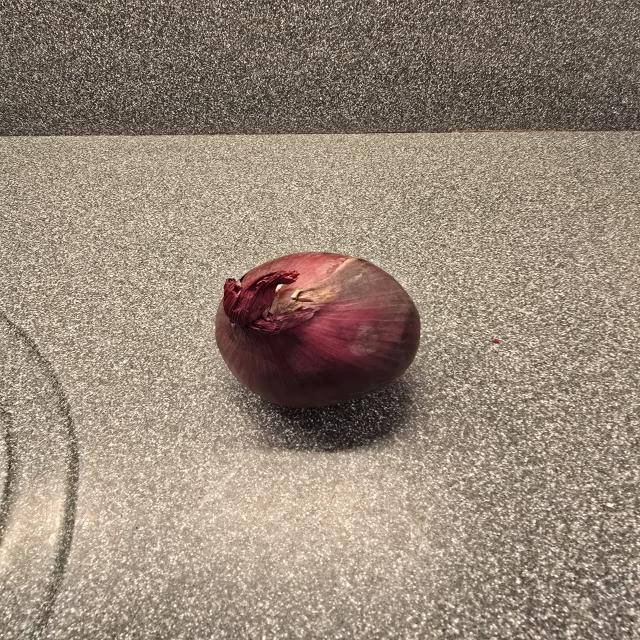Onion: (216, 252, 420, 407)
